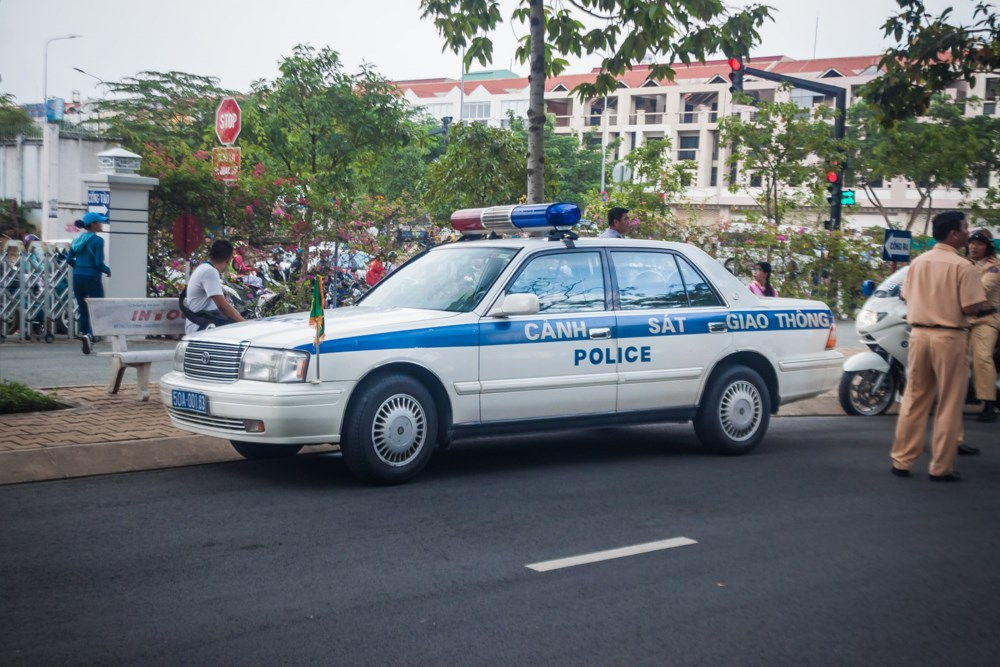police: (881, 217, 998, 484)
